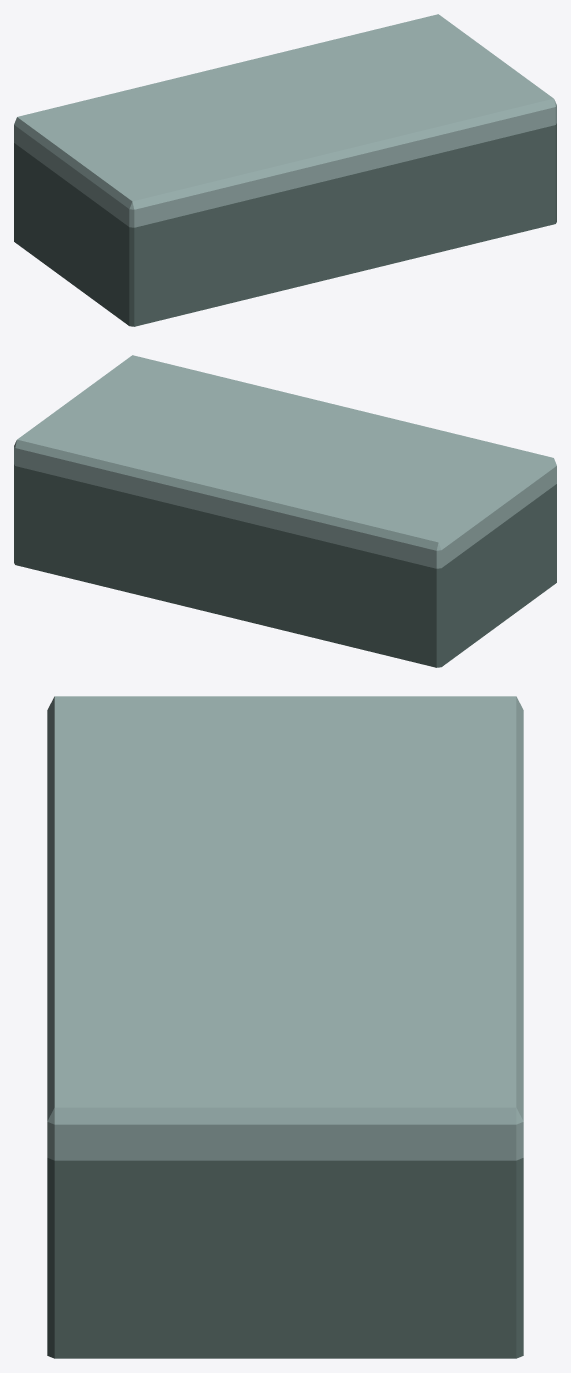
The model's file is BedBase.fbx.
The picture shows the model from 3 angles, top to bottom: view 1: azimuth 30°, elevation 25°; view 2: azimuth 150°, elevation 25°; view 3: azimuth 270°, elevation 25°; orthographic projection. The views are drawn at different scales.
Parts seen in each view (by area): view 1: BedBase; view 2: BedBase; view 3: BedBase.
Boxes of the visible parts, x1,y1,x2,y2 form: BedBase: (14, 14, 556, 326); BedBase: (14, 355, 556, 667); BedBase: (47, 696, 523, 1358).
Bounding box in the file's own units: 17.13 × 4.75 × 8.27.
